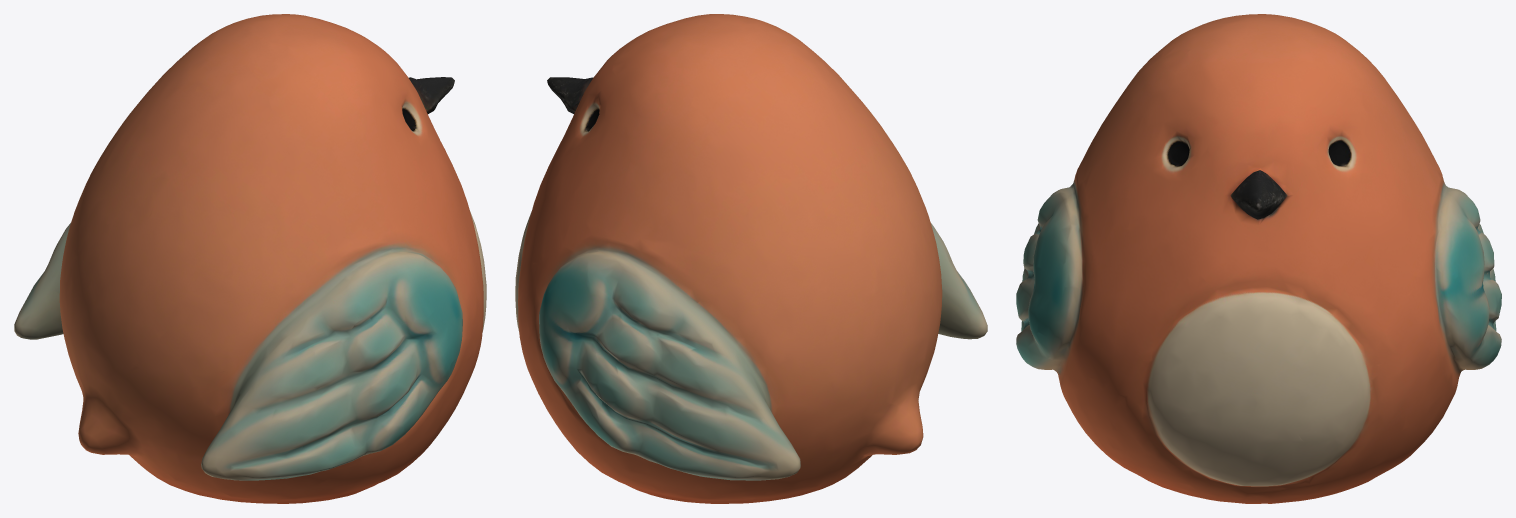
The model's file is perdizes-gift.glb.
3 views of the same model, side by side, from view 1: azimuth 30°, elevation 25°; view 2: azimuth 150°, elevation 25°; view 3: azimuth 270°, elevation 25° (orthographic). The views are drawn at different scales.
Parts seen in each view (by area): view 1: tripo_node_422a89fb-f936-4cfe-b1d5-769b11f90538; view 2: tripo_node_422a89fb-f936-4cfe-b1d5-769b11f90538; view 3: tripo_node_422a89fb-f936-4cfe-b1d5-769b11f90538.
Boxes of the visible parts, bbox=[...] form: tripo_node_422a89fb-f936-4cfe-b1d5-769b11f90538: bbox=[14, 14, 486, 503]; tripo_node_422a89fb-f936-4cfe-b1d5-769b11f90538: bbox=[515, 14, 987, 503]; tripo_node_422a89fb-f936-4cfe-b1d5-769b11f90538: bbox=[1016, 14, 1501, 503].
Size of the model in its own units: 0.9227 by 0.9649 by 1.
1 material, 1 textured.
